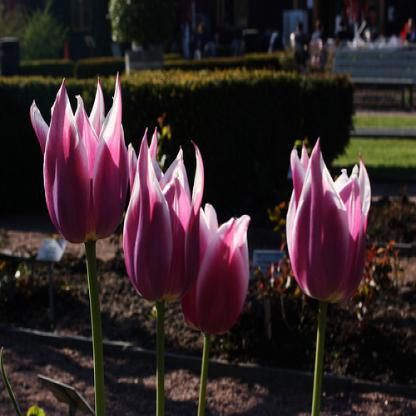TULIP: (31, 43, 381, 344)
